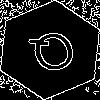Q: (25, 25, 85, 85)
